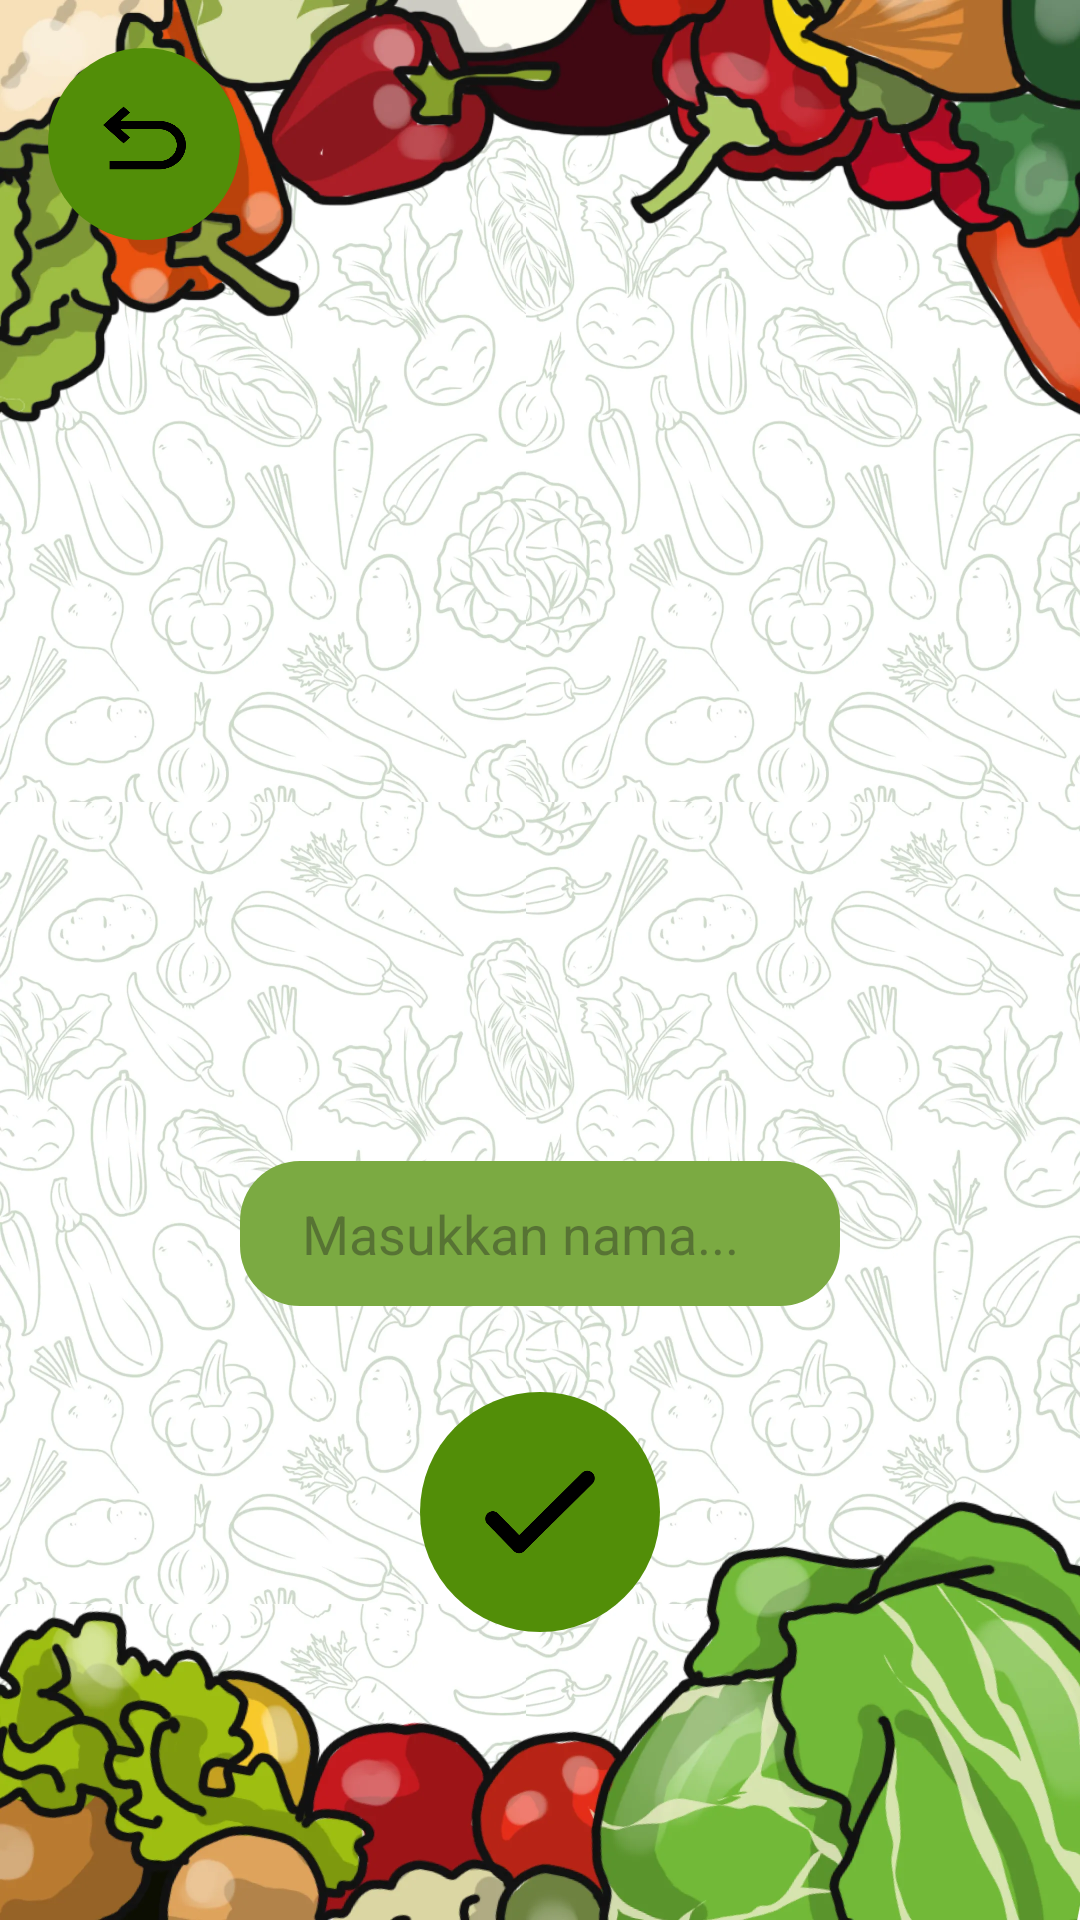

Named icons in this screenshot (1080*1920) and their bounding boxes, (x1, y1, x2, y2):
turn left: (103, 107, 186, 170)
